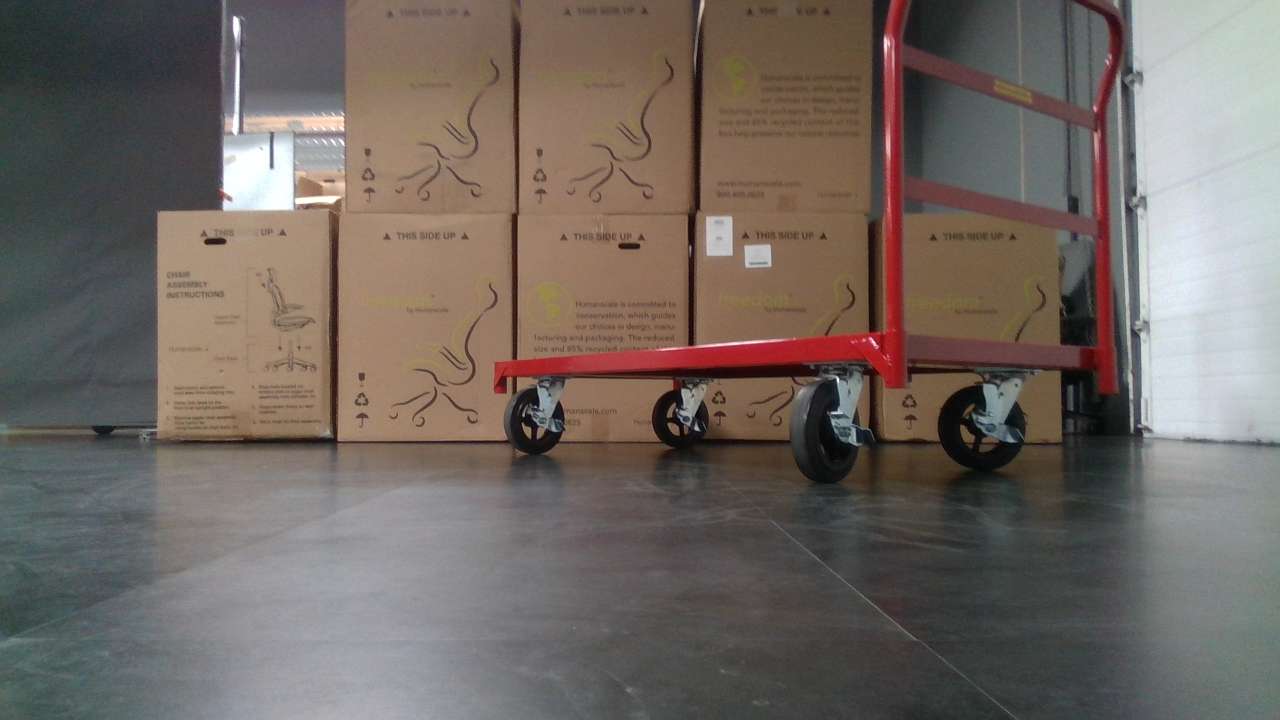Dolly: (487, 0, 1131, 481)
Wheel: (939, 376, 1033, 478), (787, 368, 865, 485), (505, 375, 571, 460), (649, 378, 712, 453)
